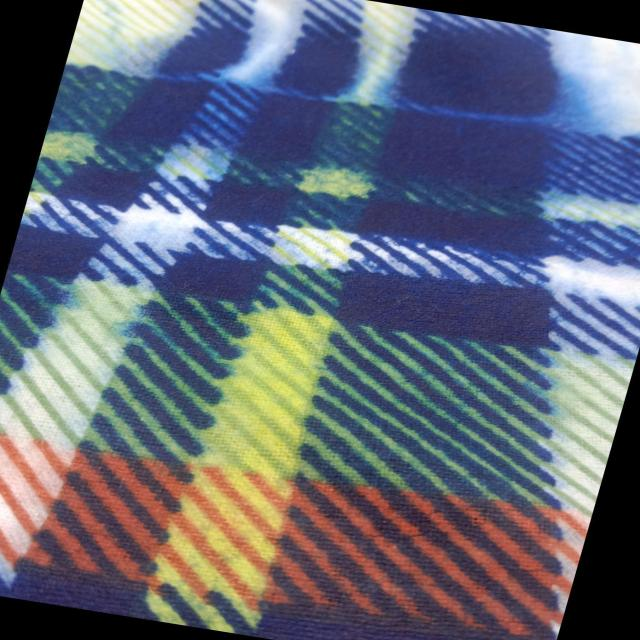baekra: (40, 0, 640, 367)
